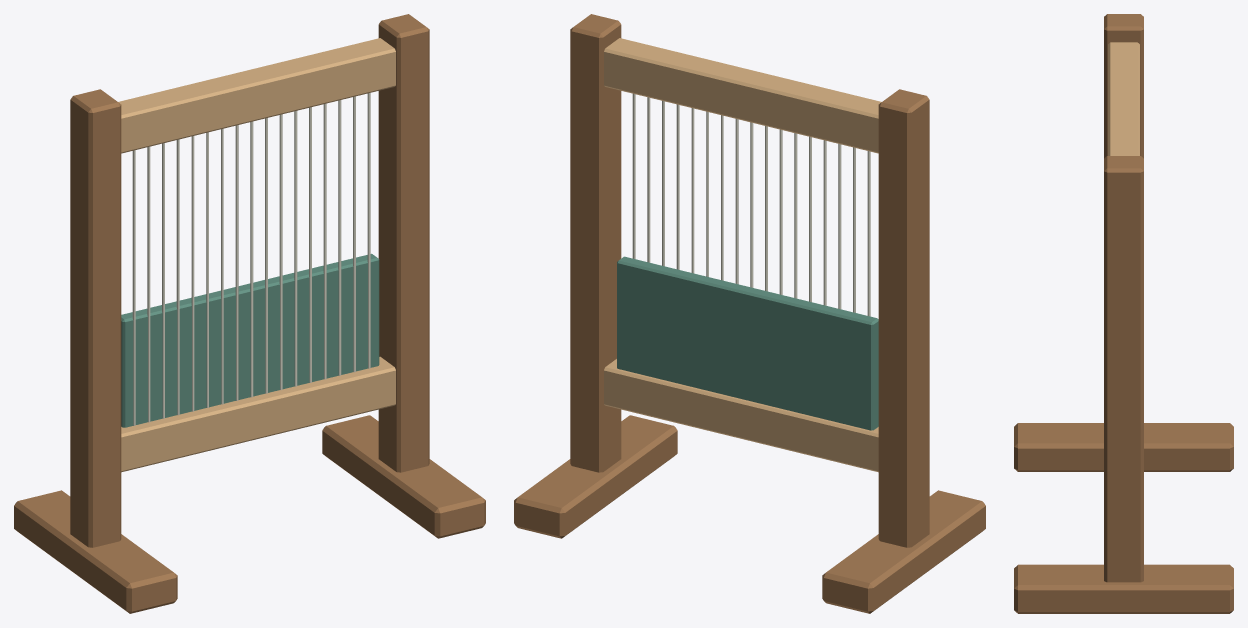
The picture shows the model from 3 angles, left to right: view 1: azimuth 30°, elevation 25°; view 2: azimuth 150°, elevation 25°; view 3: azimuth 270°, elevation 25°; orthographic projection. The views are drawn at different scales.
Parts seen in each view (by area): view 1: textile-weaving-frame-01; view 2: textile-weaving-frame-01; view 3: textile-weaving-frame-01.
Part boxes in pixels (<box>): textile-weaving-frame-01: <box>14,14,485,613</box>; textile-weaving-frame-01: <box>514,14,985,613</box>; textile-weaving-frame-01: <box>1014,14,1233,613</box>.
Bounding box in the file's own units: 0.98 × 1.22 × 0.55.
